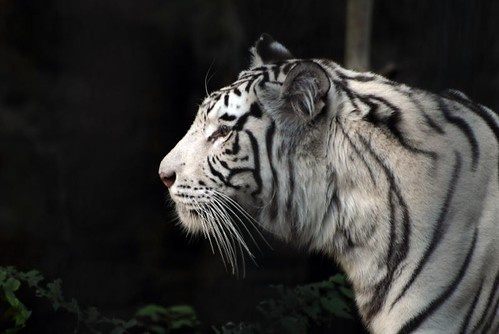tigre: (157, 38, 499, 331)
